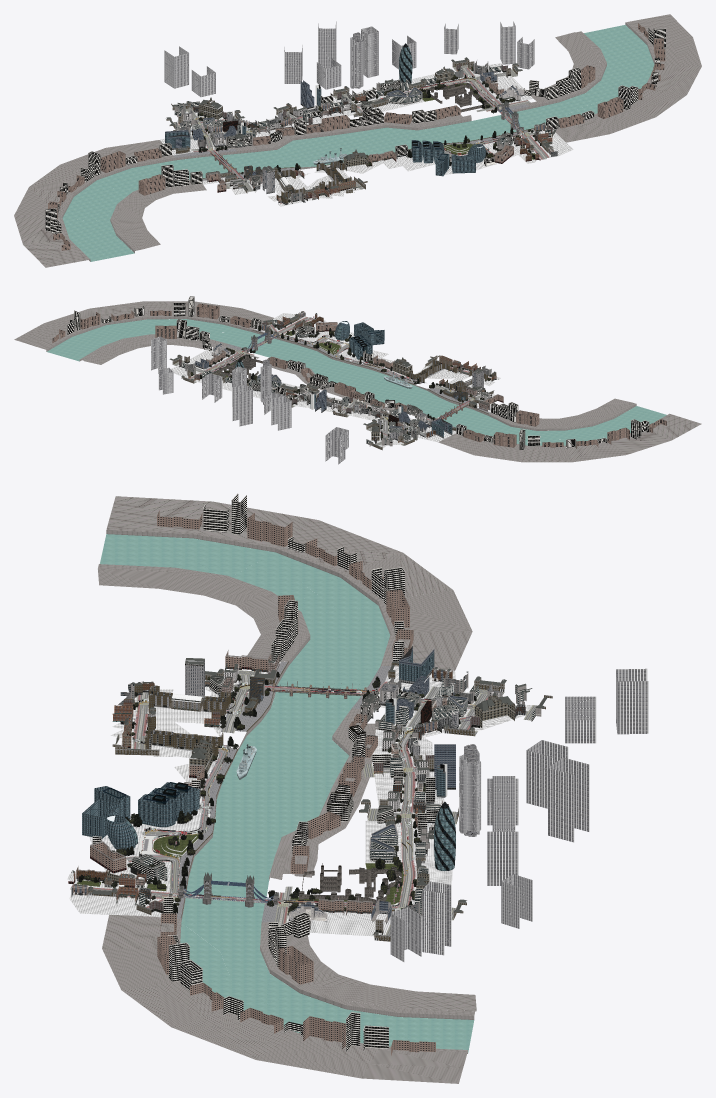
The model's file is london medium.glb.
3 renders of one model, top to bottom at view 1: azimuth 30°, elevation 25°; view 2: azimuth 150°, elevation 25°; view 3: azimuth 270°, elevation 25°, orthographic. The views are drawn at different scales.
Parts seen in each view (by area): view 1: mesh; view 2: mesh; view 3: mesh.
Part boxes in pixels (x1,y1,x2,y2): mesh: (14, 14, 701, 267); mesh: (14, 296, 701, 464); mesh: (67, 493, 648, 1083).
Size of what is drawn, in the model's own units: 4252 by 309 by 1777.
Materials: 88 (87 with a texture image).
